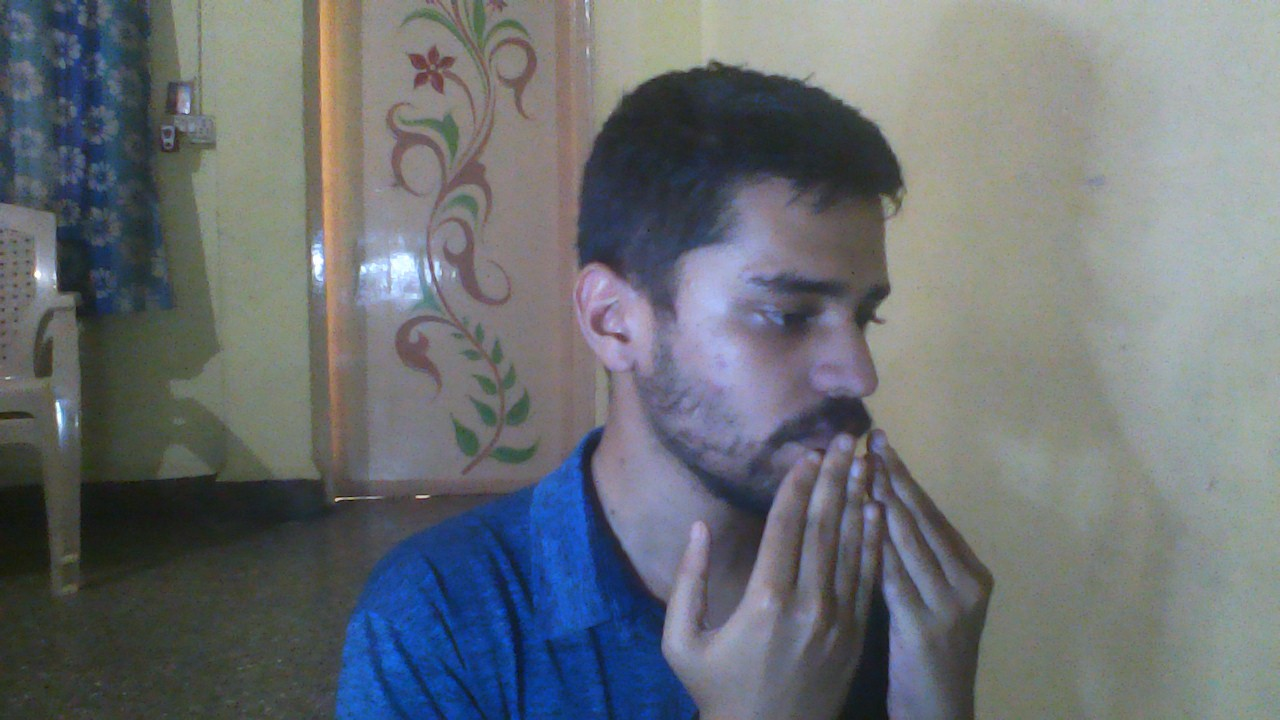thanks: (639, 417, 1010, 720)
